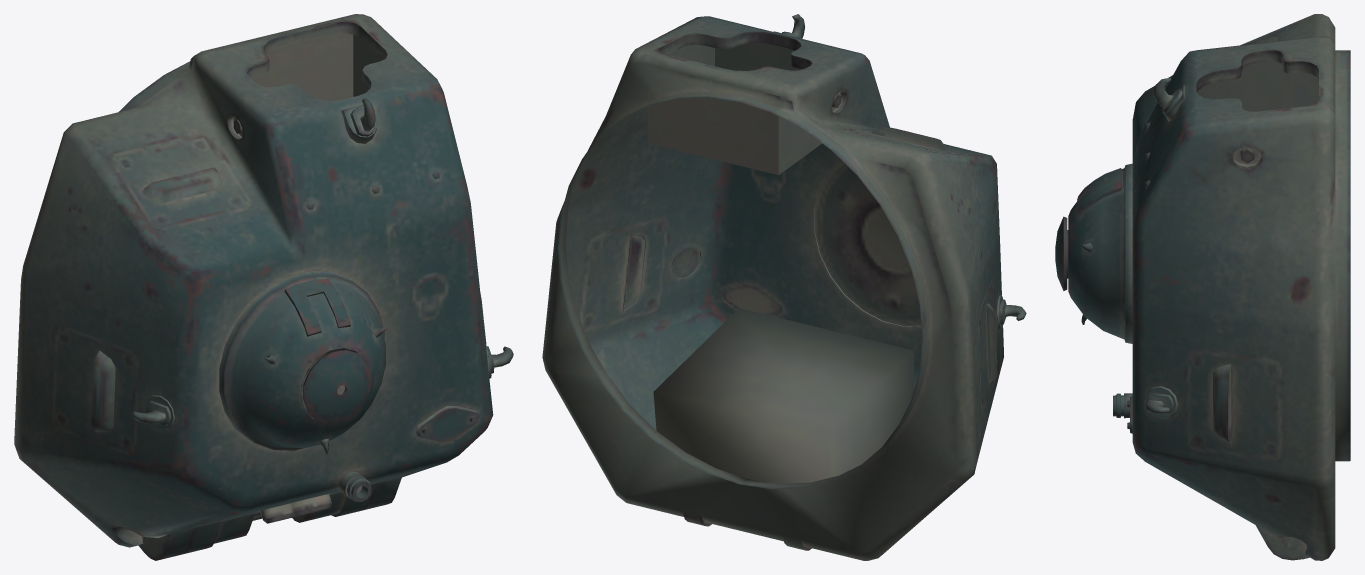
File: Turret_02.glb
3 views of the same model, side by side, from view 1: azimuth 30°, elevation 25°; view 2: azimuth 150°, elevation 25°; view 3: azimuth 270°, elevation 25° (orthographic). The views are drawn at different scales.
Parts seen in each view (by area): view 1: set_0_group_0; view 2: set_0_group_0; view 3: set_0_group_0.
Part boxes in pixels (x1,y1,x2,y2): set_0_group_0: [14, 14, 513, 560]; set_0_group_0: [542, 14, 1026, 560]; set_0_group_0: [1055, 14, 1350, 560].
Bounding box in the file's own units: 1.18 × 1.21 × 0.7182.
1 material, 1 textured.
